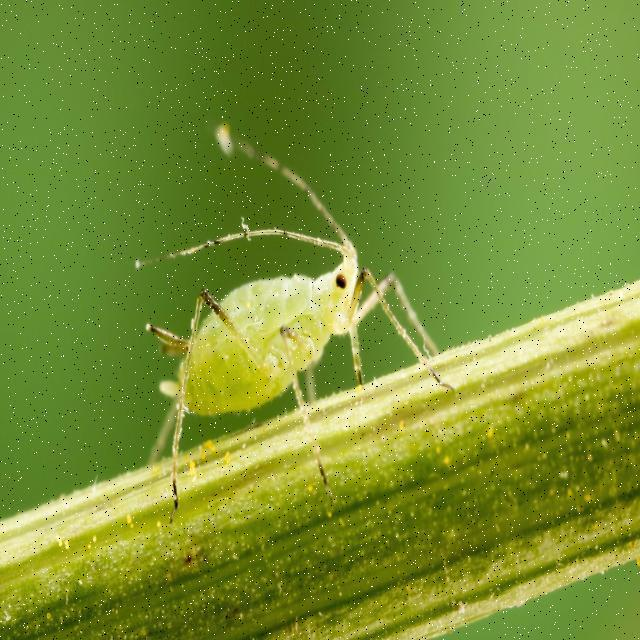Aphids: (100, 131, 463, 529)
